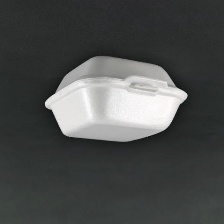foam_box: (39, 51, 193, 149)
